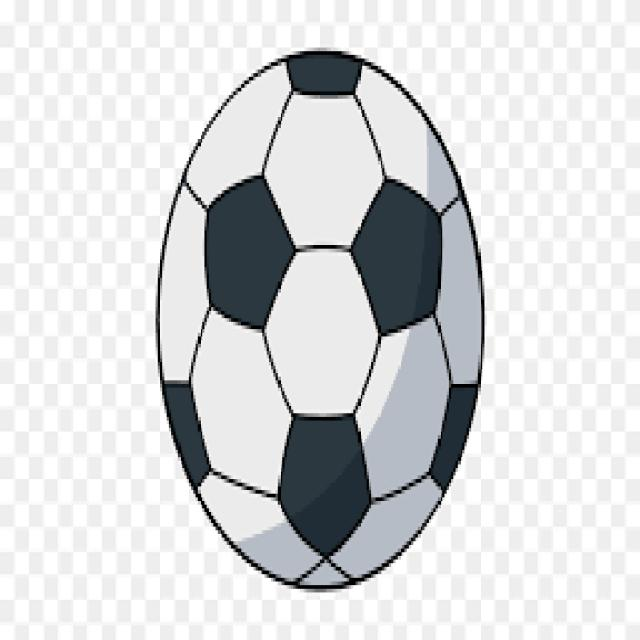football: (158, 48, 484, 592)
